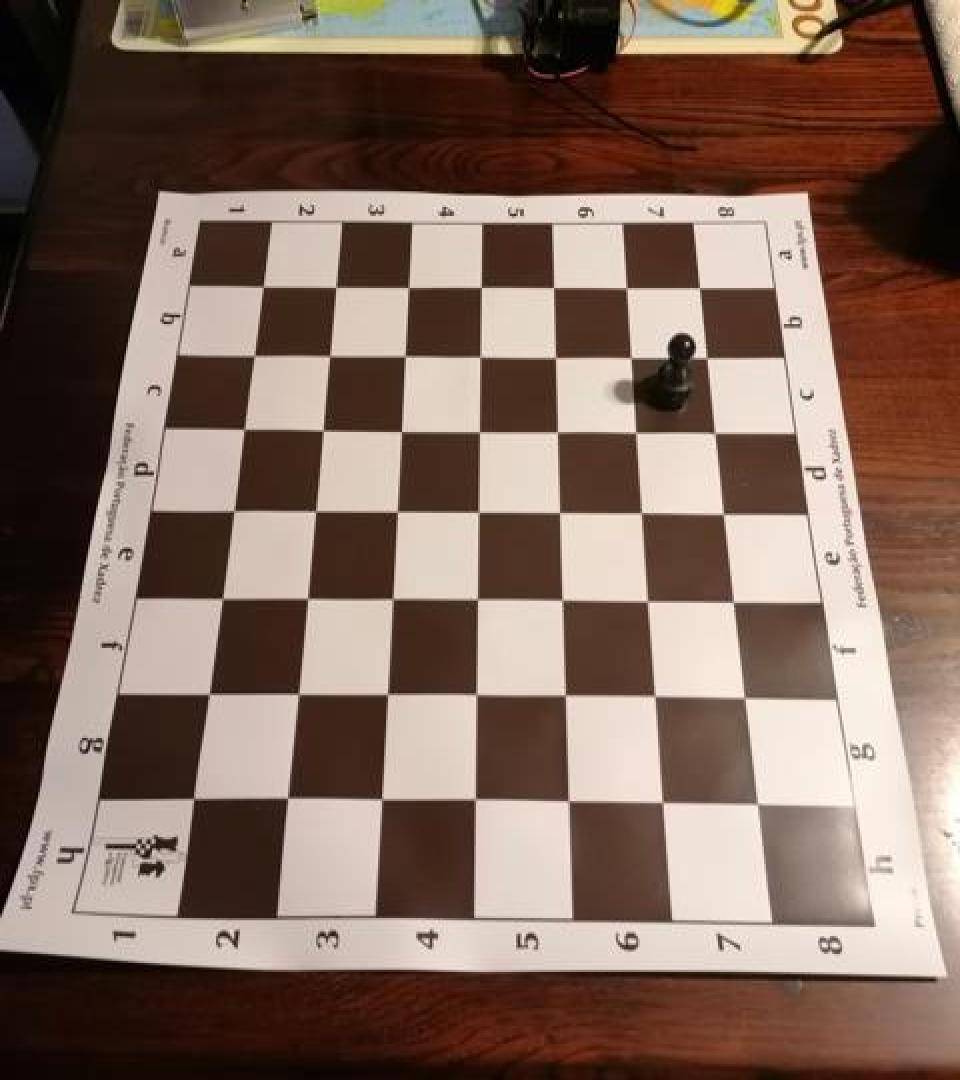xcorner: (385, 335, 419, 374), (309, 335, 343, 374), (684, 269, 718, 307), (610, 269, 644, 307), (536, 268, 570, 306), (462, 267, 496, 305), (389, 267, 423, 305), (315, 266, 349, 304), (242, 266, 276, 304), (692, 339, 726, 377), (615, 338, 649, 376), (538, 338, 572, 376), (461, 336, 495, 374), (233, 334, 267, 372), (700, 414, 734, 452), (620, 413, 654, 451), (540, 413, 574, 451), (461, 412, 495, 450), (381, 411, 415, 449), (302, 410, 336, 448), (223, 408, 257, 446), (710, 496, 744, 534), (626, 495, 660, 533), (543, 494, 577, 532), (460, 493, 494, 531), (377, 492, 411, 530), (294, 490, 328, 528), (212, 490, 246, 528), (720, 585, 754, 623), (633, 584, 667, 622), (546, 583, 580, 621), (459, 582, 493, 620), (372, 580, 406, 618), (286, 580, 320, 618), (200, 578, 234, 616), (731, 683, 765, 721), (640, 682, 674, 720), (549, 680, 583, 718), (458, 678, 492, 716), (367, 678, 401, 716), (277, 676, 311, 714), (187, 674, 221, 712), (744, 790, 778, 828), (648, 789, 682, 827), (552, 786, 586, 824), (457, 786, 491, 824), (362, 783, 396, 821), (267, 782, 301, 820), (172, 780, 206, 818)
